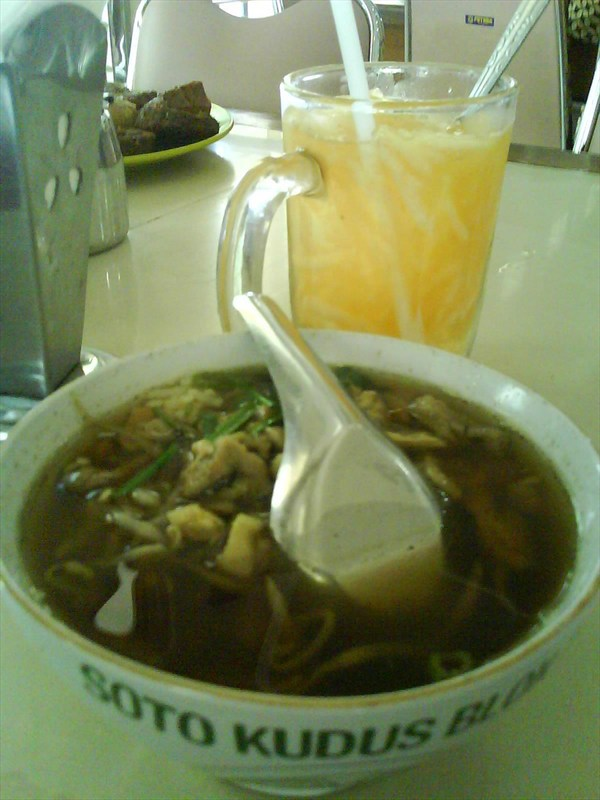Soto Ayam: (80, 45, 546, 708)
